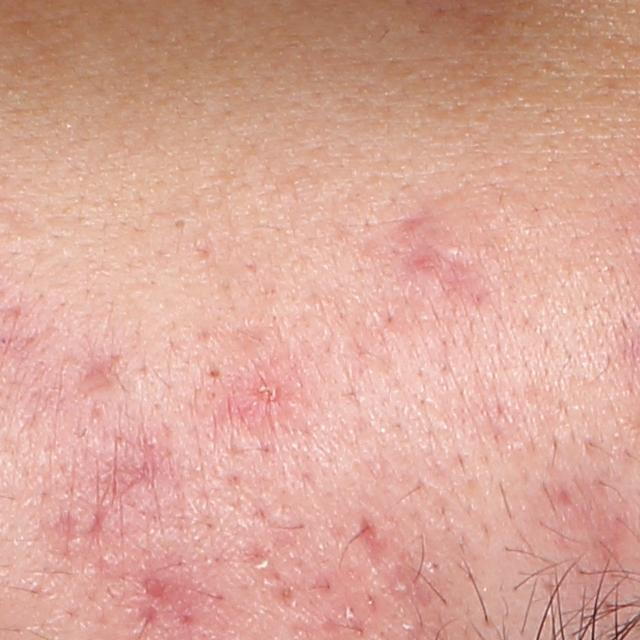atrophic_scar: (76, 348, 127, 392), (83, 505, 107, 544)
comedo: (172, 215, 192, 232), (205, 364, 223, 380)
